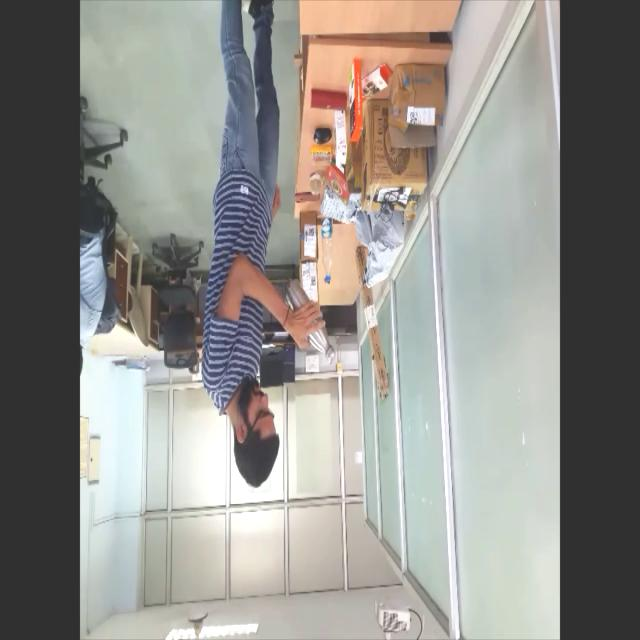normal: (196, 1, 336, 494)
